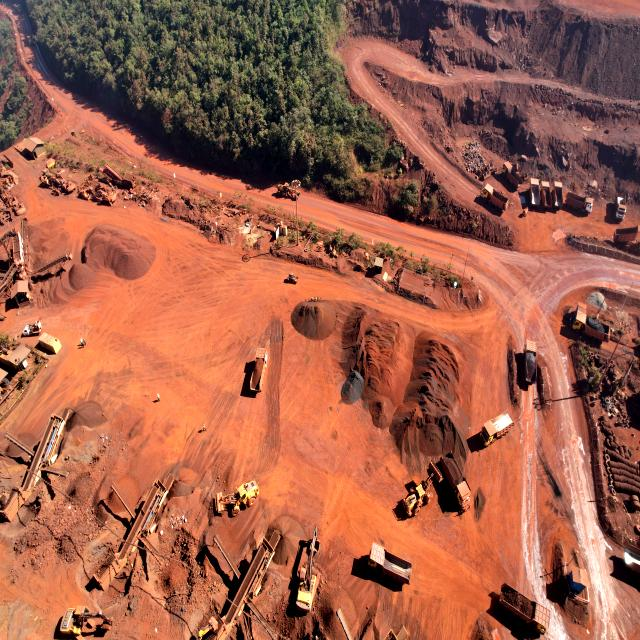Dumper truck: (494, 584, 546, 636), (364, 542, 411, 588), (441, 456, 473, 508), (567, 304, 610, 341), (479, 414, 512, 448), (248, 348, 269, 396), (520, 338, 537, 385), (620, 545, 640, 584), (483, 182, 508, 209), (502, 160, 524, 185), (566, 193, 593, 213), (614, 228, 639, 248), (40, 333, 61, 353), (615, 194, 627, 218), (23, 321, 41, 337), (531, 179, 540, 207), (542, 179, 550, 207), (554, 178, 562, 206)
Excavator: (292, 533, 320, 616), (57, 606, 112, 640), (192, 612, 229, 640), (303, 531, 315, 589)
person: (82, 338, 86, 345), (80, 339, 84, 345), (156, 394, 160, 400)
